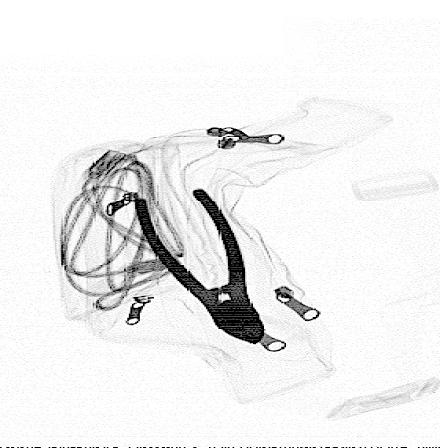Pliers: (133, 188, 267, 345)
